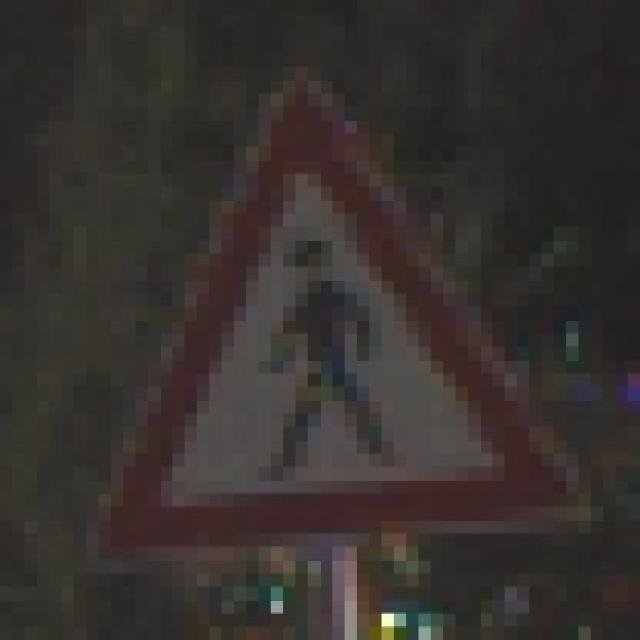Pedestrian Crossing: (99, 66, 603, 574)
